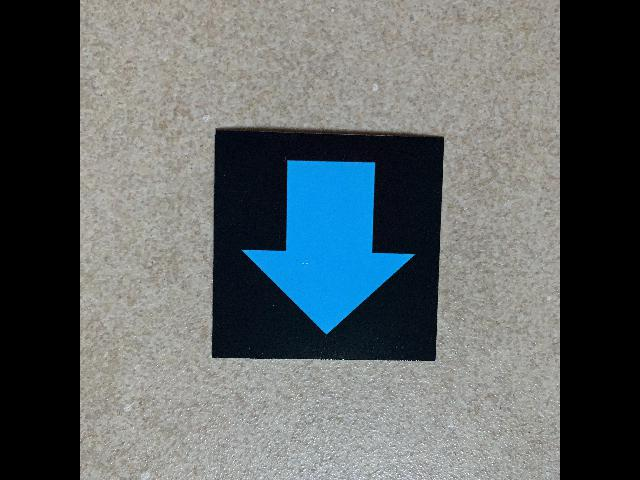down_arrow: (212, 125, 445, 363)
